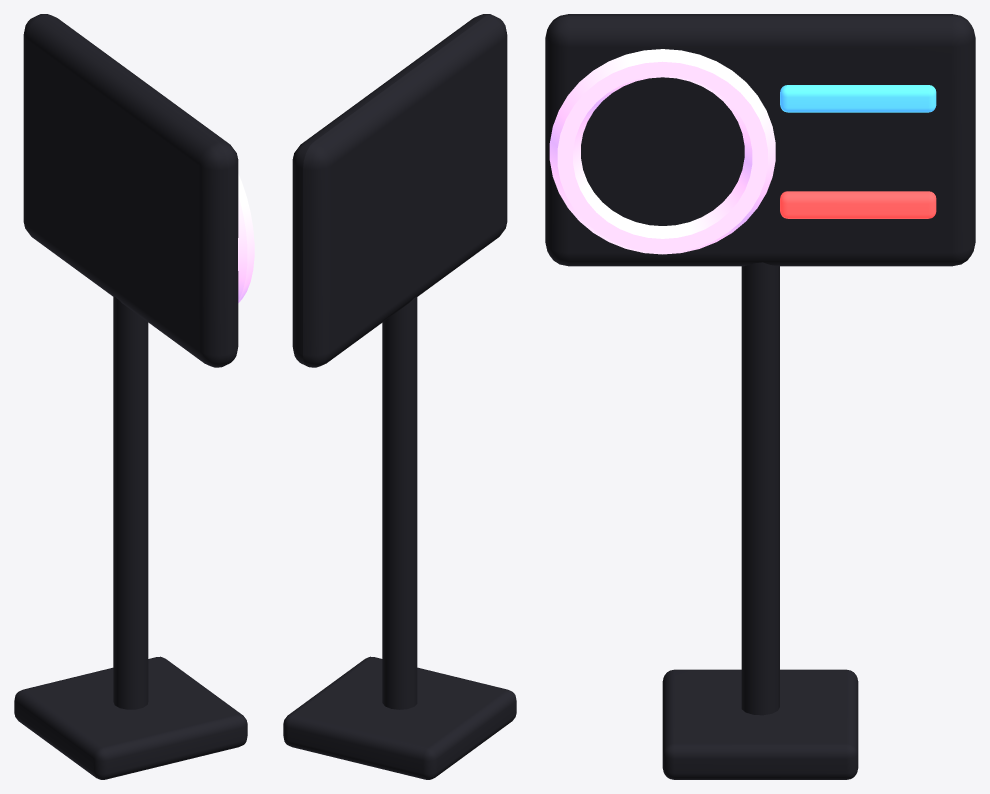
File: neon_sign.glb
The picture shows the model from 3 angles, left to right: view 1: azimuth 30°, elevation 25°; view 2: azimuth 150°, elevation 25°; view 3: azimuth 270°, elevation 25°; orthographic projection. The views are drawn at different scales.
Parts seen in each view (by area): view 1: neon_sign; view 2: neon_sign; view 3: neon_sign.
Part boxes in pixels (x1,y1,x2,y2): neon_sign: (14,14,254,779); neon_sign: (283,14,516,779); neon_sign: (545,14,975,779).
Bounding box in the file's own units: 0.5 × 2.05 × 1.1.
Materials: 1 (1 with a texture image).
